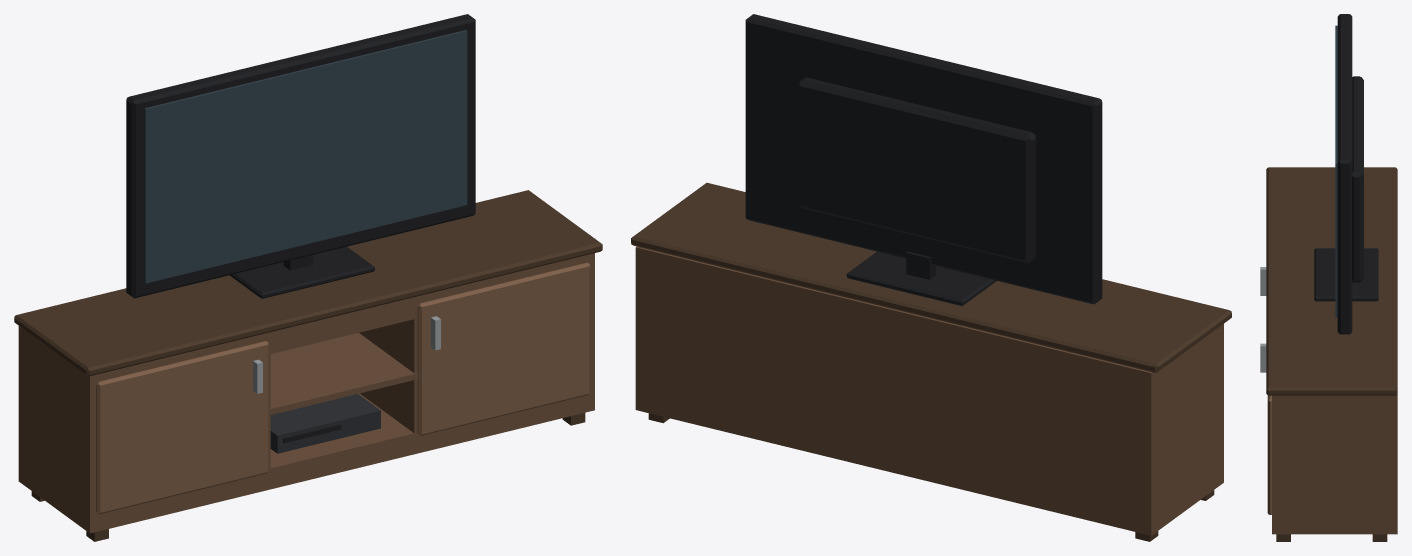
Rendered from meuble_tv.glb.
3 renders of one model, left to right at view 1: azimuth 30°, elevation 25°; view 2: azimuth 150°, elevation 25°; view 3: azimuth 270°, elevation 25°, orthographic. The views are drawn at different scales.
Parts seen in each view (by area): view 1: screen, carcass, top, door_r, door_l, tv, niche_shelf, player, tv_foot; view 2: carcass, tv, tv_back, top, tv_foot; view 3: top, carcass, tv, tv_back, tv_foot, screen, door_r, feet, knob_r, knob_l.
Boxes of the visible parts, x1,y1,x2,y2 form: screen: [144, 30, 467, 283]; carcass: [18, 253, 594, 533]; top: [14, 190, 602, 376]; door_r: [417, 262, 590, 435]; door_l: [96, 341, 268, 514]; tv: [126, 14, 475, 298]; niche_shelf: [269, 333, 417, 415]; player: [270, 394, 380, 453]; tv_foot: [230, 246, 374, 298]; carcass: [635, 246, 1223, 535]; tv: [745, 14, 1102, 304]; tv_back: [798, 77, 1035, 263]; top: [631, 182, 1231, 372]; tv_foot: [846, 251, 996, 305]; top: [1266, 167, 1397, 395]; carcass: [1272, 394, 1397, 534]; tv: [1337, 14, 1352, 334]; tv_back: [1352, 76, 1363, 282]; tv_foot: [1314, 248, 1378, 301]; screen: [1335, 25, 1337, 317]; door_r: [1267, 395, 1271, 514]; feet: [1276, 534, 1387, 541]; knob_r: [1260, 343, 1266, 372]; knob_l: [1260, 267, 1266, 295].
Bounding box in the file's own units: 1.8 × 1.32 × 0.47.
7 materials, 7 textured.
